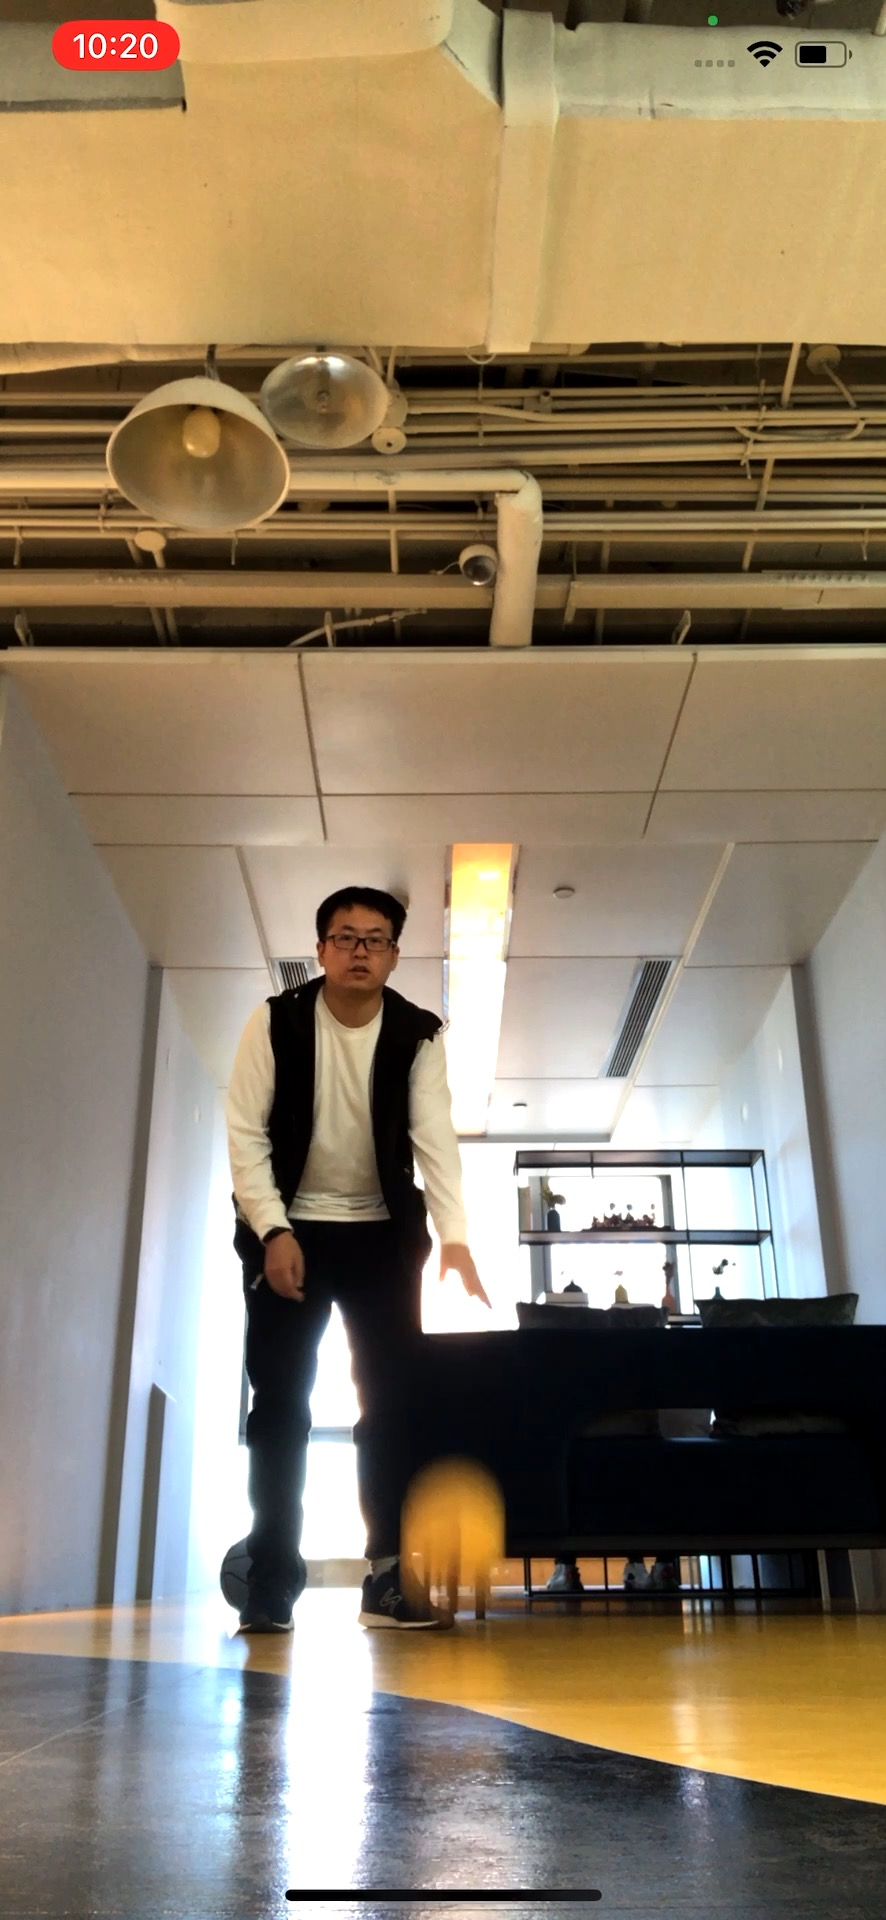ball: (404, 1469, 505, 1607)
